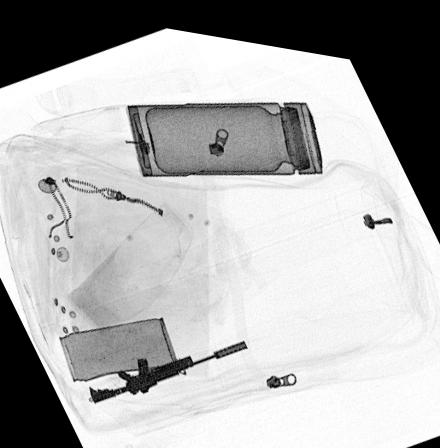Gun: (86, 331, 248, 401)
